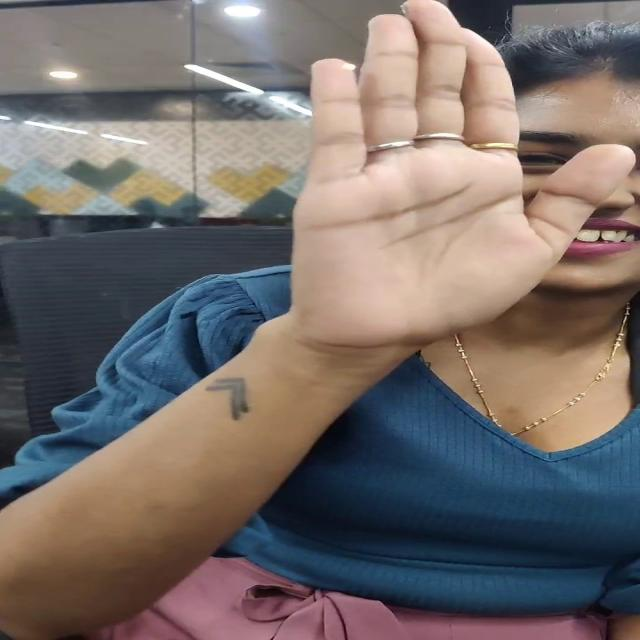no-gloves: (263, 0, 640, 400)
